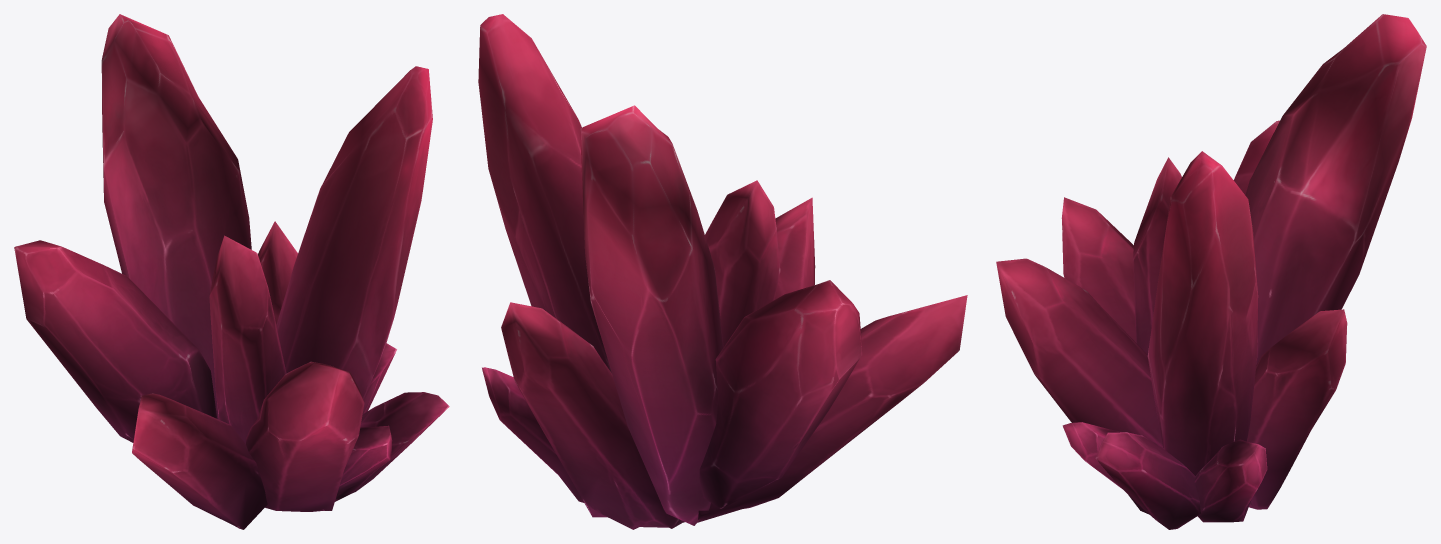
File: VEG0510006.fbx
3 views of the same model, side by side, from view 1: azimuth 30°, elevation 25°; view 2: azimuth 150°, elevation 25°; view 3: azimuth 270°, elevation 25° (orthographic). The views are drawn at different scales.
Visible parts, largest first — view 1: smVEG0510006; view 2: smVEG0510006; view 3: smVEG0510006.
Part boxes in pixels (bbox=[...]): smVEG0510006: bbox=[14, 14, 449, 529]; smVEG0510006: bbox=[478, 14, 967, 529]; smVEG0510006: bbox=[996, 14, 1426, 529].
Size of the model in its own units: 60.61 by 69.2 by 58.95.
Materials: 1 (1 with a texture image).
